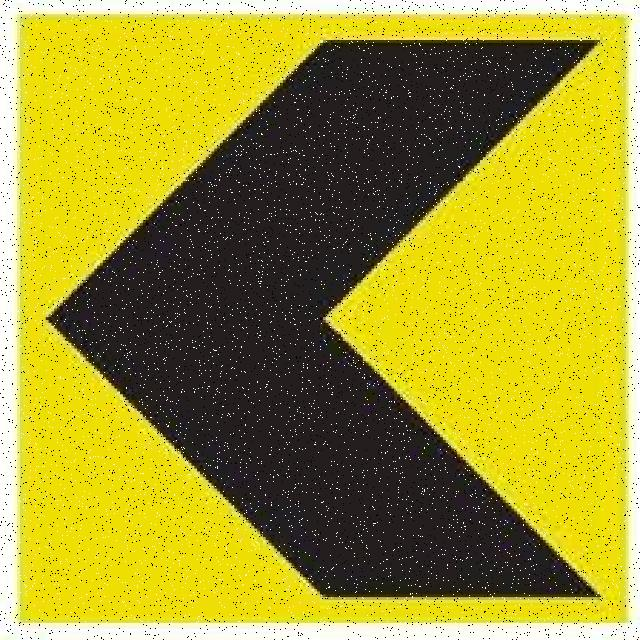chevron_left: (20, 12, 630, 620), (20, 15, 626, 621)
